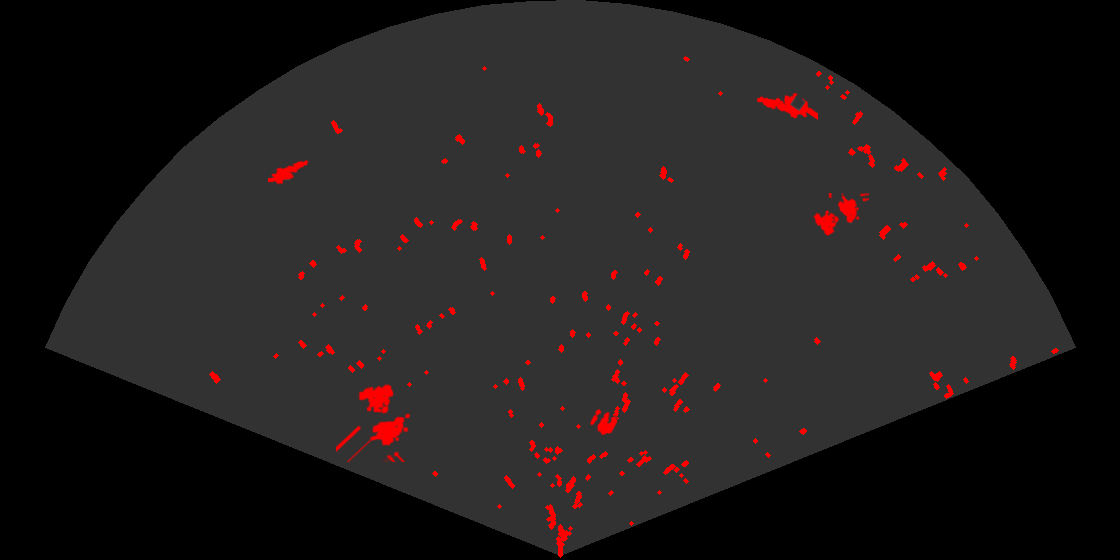ball: (589, 407, 619, 437)
cage: (336, 383, 412, 462), (811, 193, 869, 238)
frogman: (755, 91, 818, 121), (268, 159, 310, 186)
